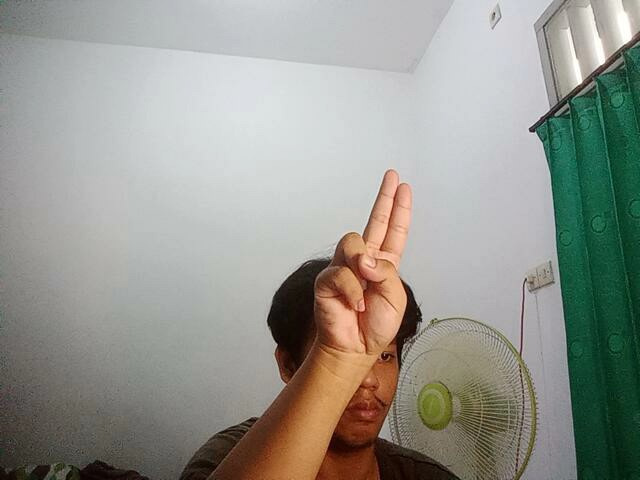U: (307, 159, 425, 360)
